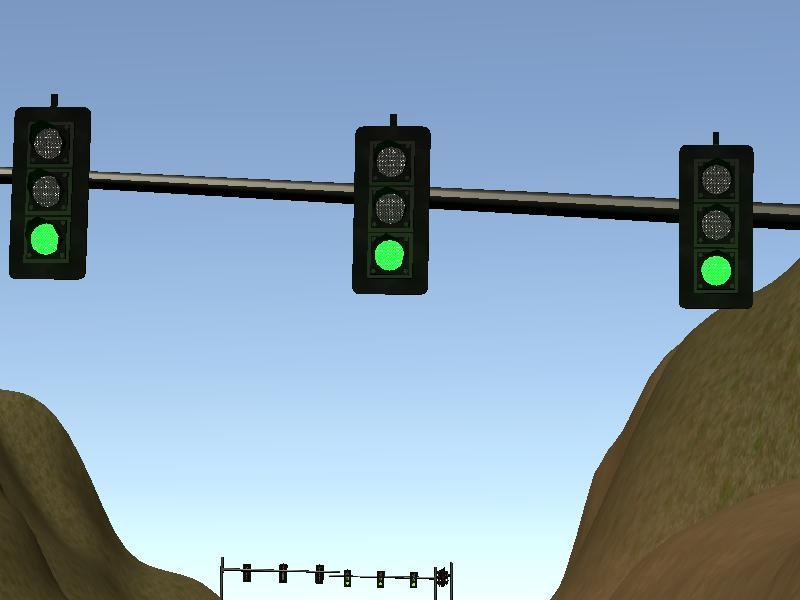GREEN: (8, 105, 89, 280), (350, 124, 430, 295), (676, 144, 754, 308)
